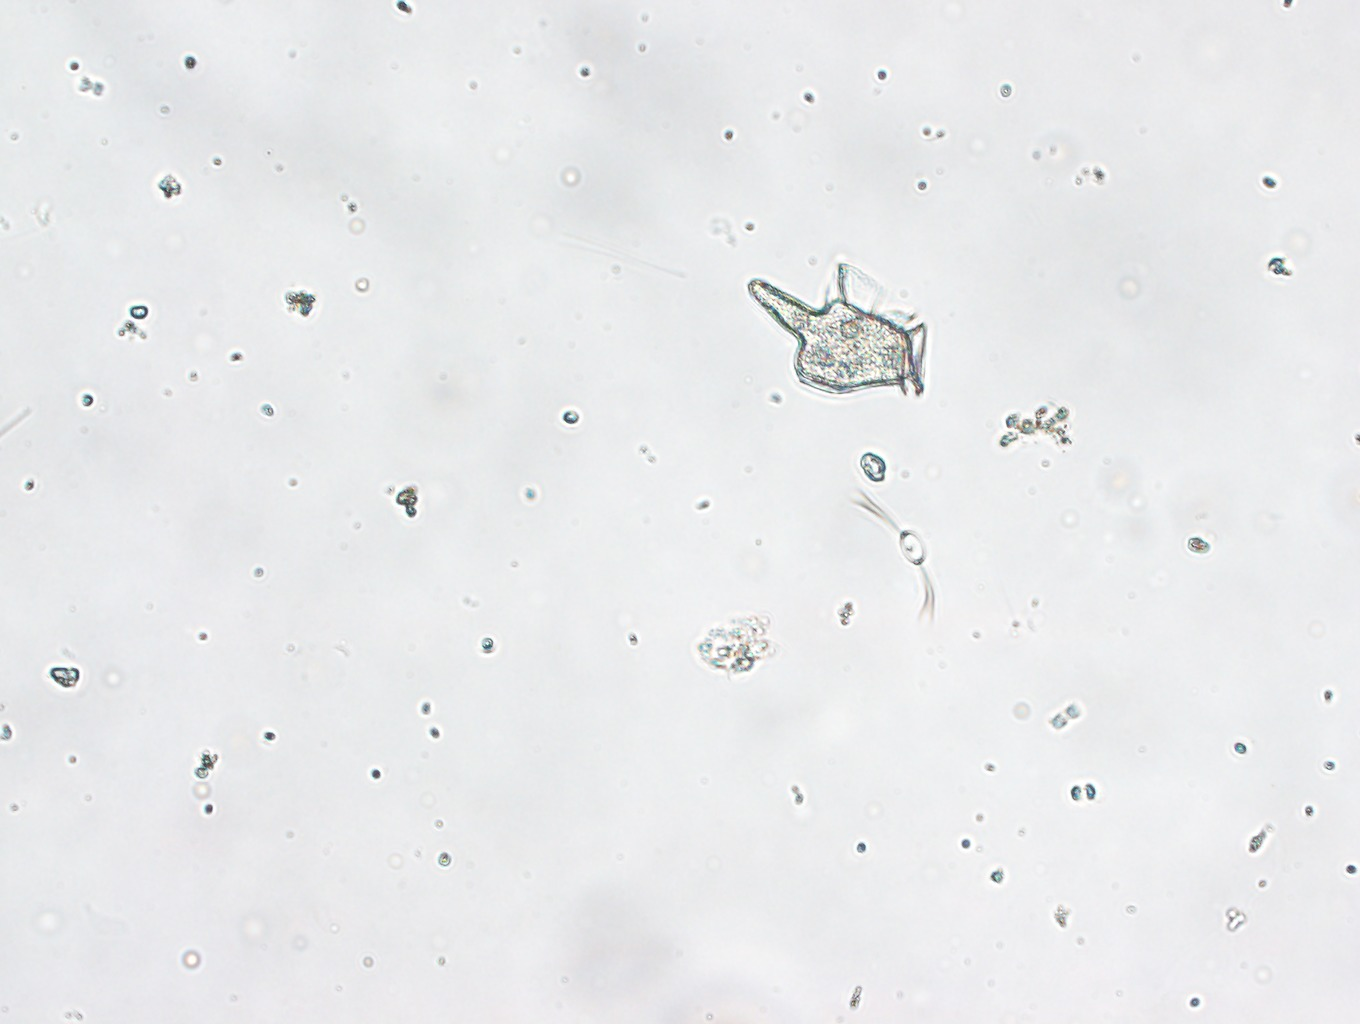chaetoceros: (843, 467, 960, 644)
dinophysis caudata: (747, 242, 946, 406)
